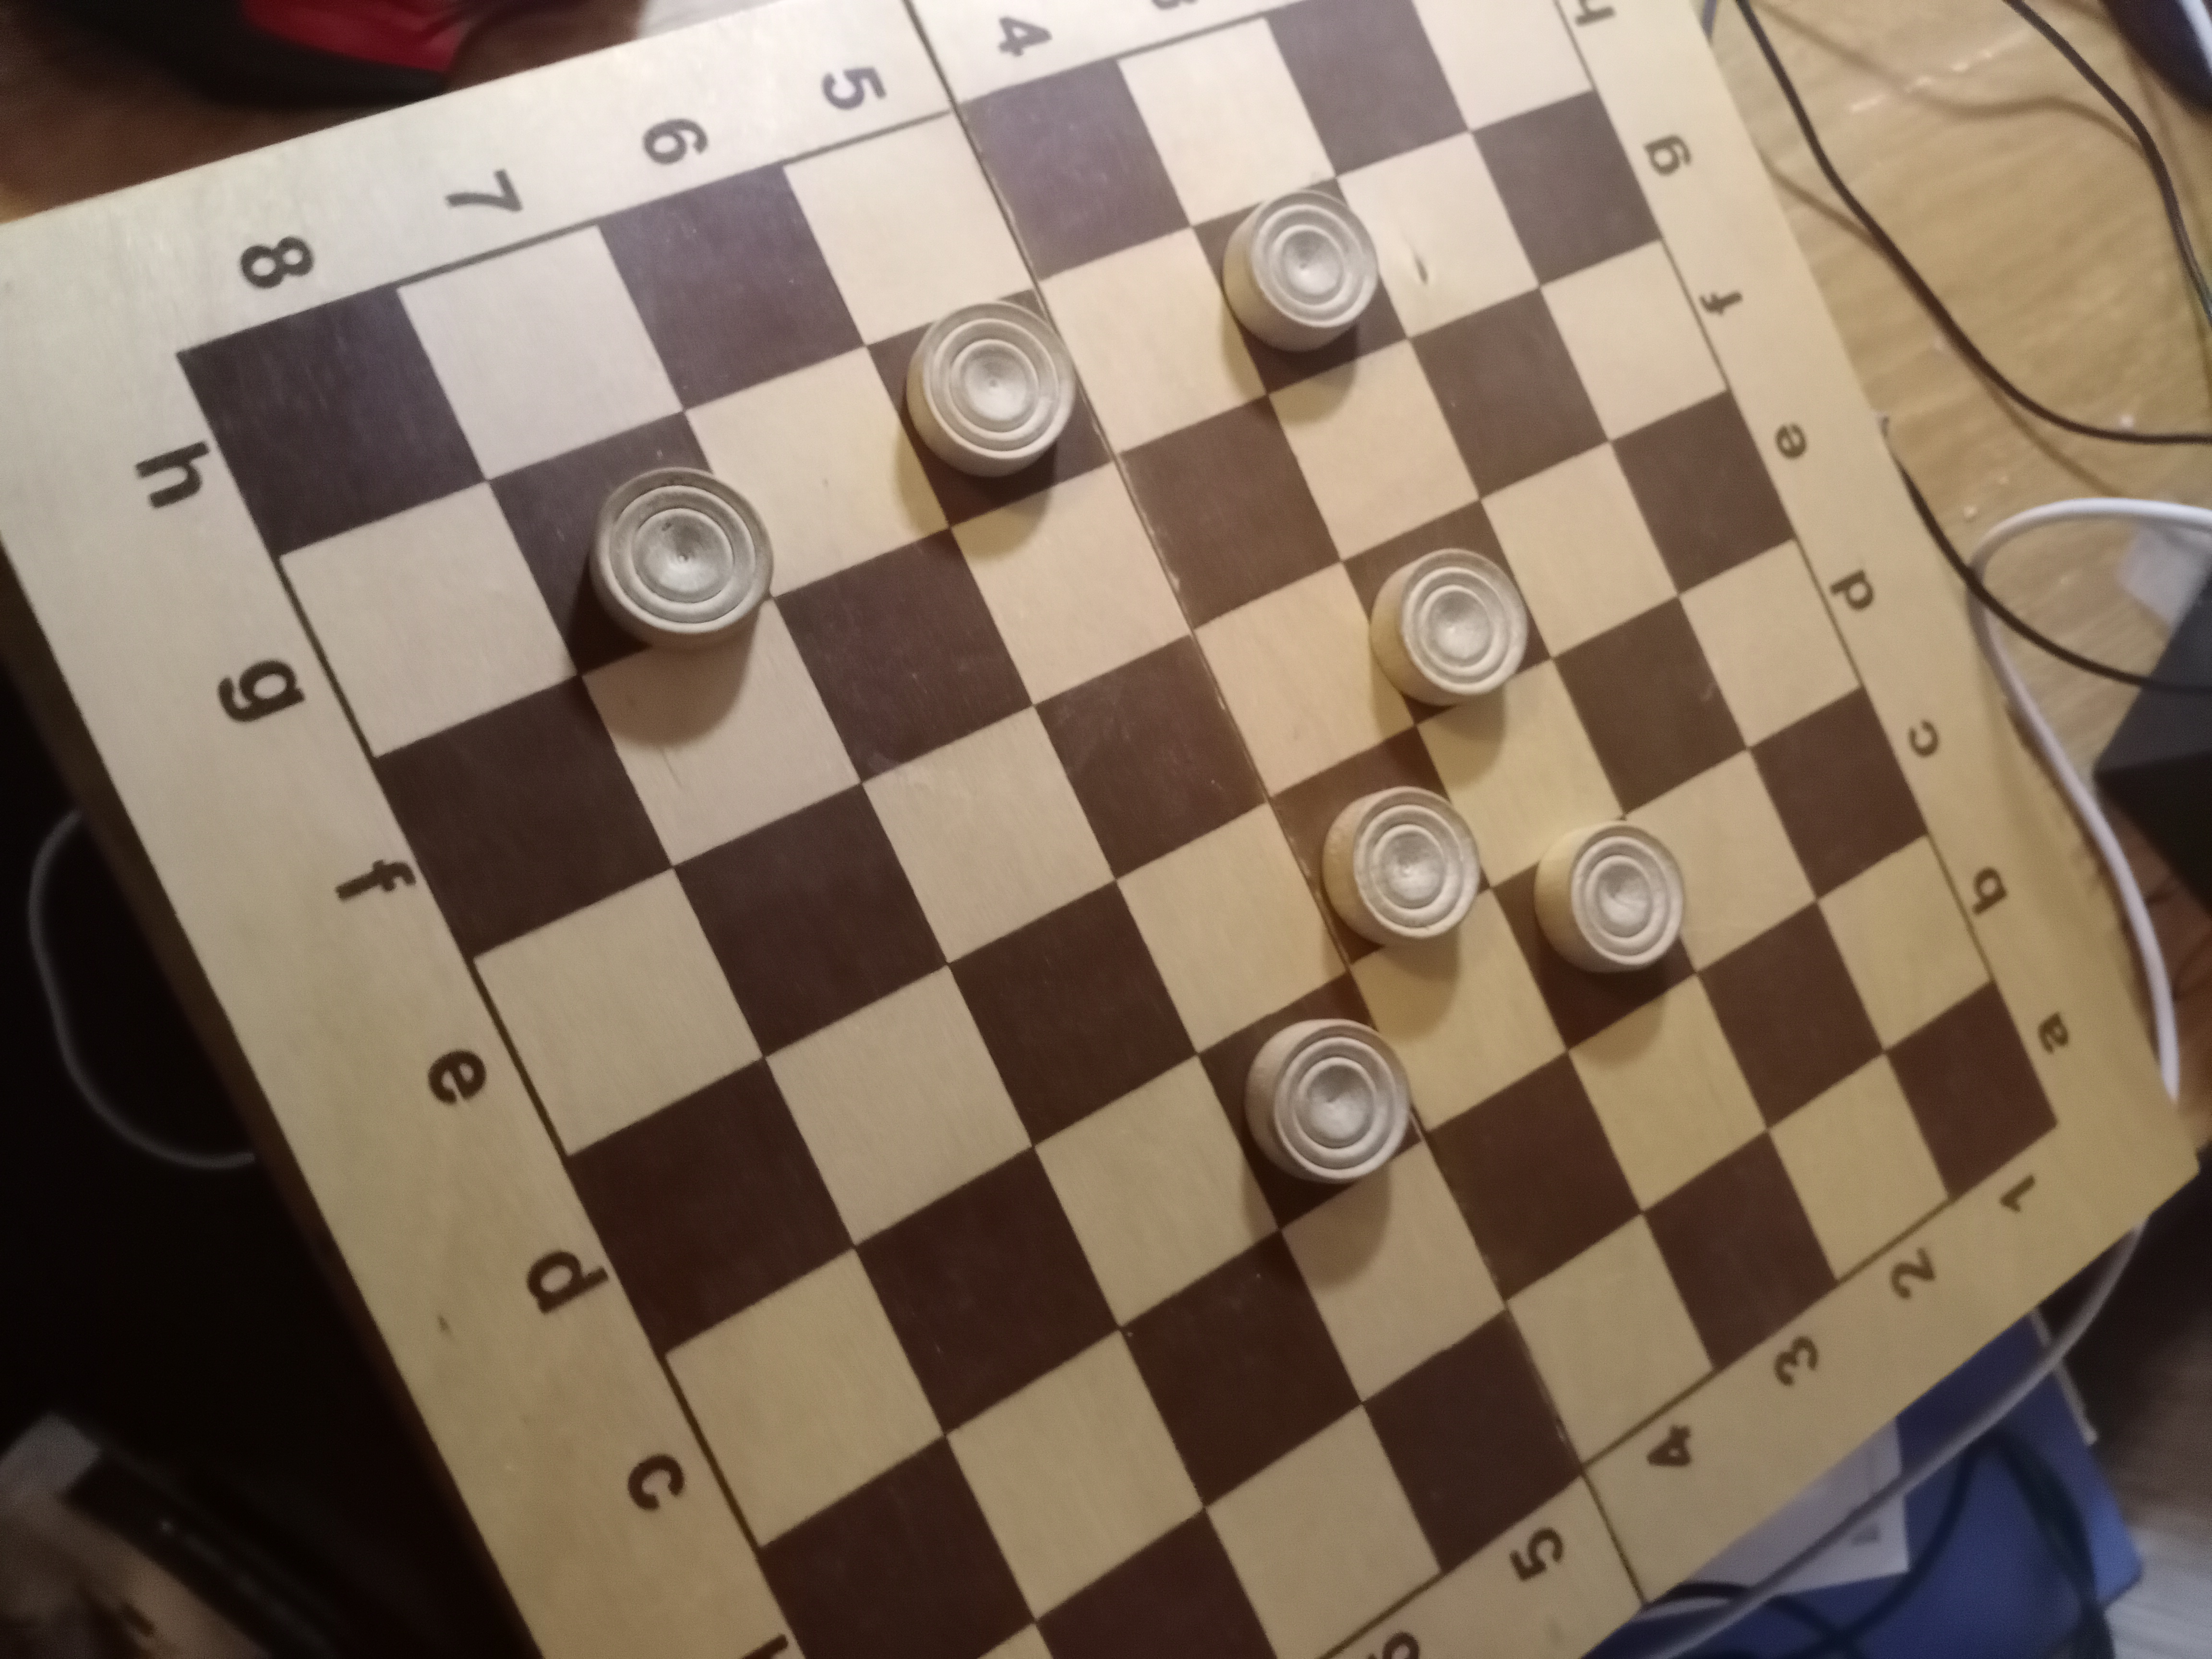White_Draught: (486, 411, 775, 676), (864, 288, 1115, 526), (1197, 972, 1423, 1229), (1268, 728, 1493, 965), (1493, 814, 1698, 1049), (1343, 500, 1554, 727), (1191, 178, 1407, 394)
